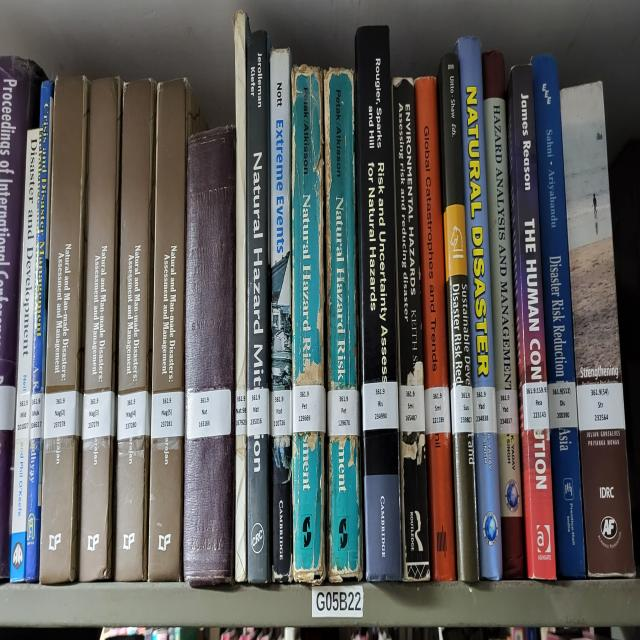Book: (561, 87, 635, 576), (148, 78, 205, 582), (532, 54, 585, 576), (355, 27, 402, 582), (455, 38, 502, 579), (40, 76, 90, 584), (508, 65, 556, 579), (184, 127, 235, 587), (482, 51, 525, 579), (438, 51, 479, 582), (79, 78, 122, 582), (415, 76, 456, 582), (115, 78, 156, 582), (324, 68, 362, 582), (392, 78, 430, 582), (291, 65, 325, 584), (25, 81, 54, 582), (246, 30, 270, 584), (270, 49, 292, 582), (232, 11, 250, 582)
Label: (576, 381, 625, 430), (186, 390, 231, 438), (44, 390, 82, 438), (362, 381, 399, 430), (82, 390, 115, 441), (118, 390, 151, 441), (292, 384, 325, 433), (151, 390, 184, 438), (328, 390, 360, 436), (548, 381, 578, 430), (522, 381, 549, 430), (399, 384, 425, 433), (450, 384, 474, 436), (424, 387, 450, 433), (472, 387, 498, 433), (248, 387, 270, 436), (496, 390, 519, 436), (271, 390, 292, 436), (30, 392, 44, 438), (235, 390, 246, 436)
